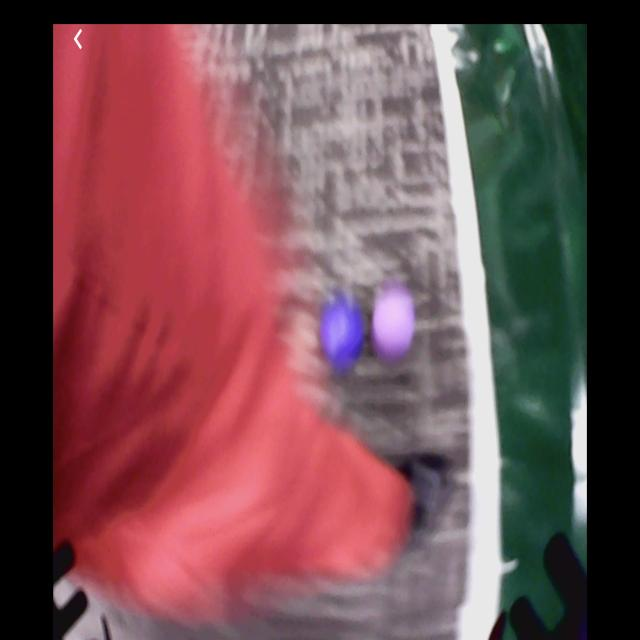ball: (374, 287, 414, 354), (323, 296, 361, 365)
